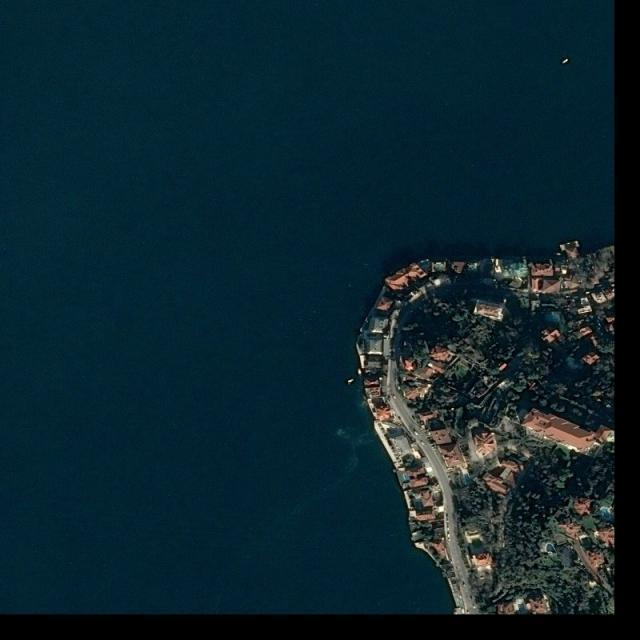ship: (561, 58, 570, 66), (357, 368, 363, 377), (348, 379, 354, 383)
